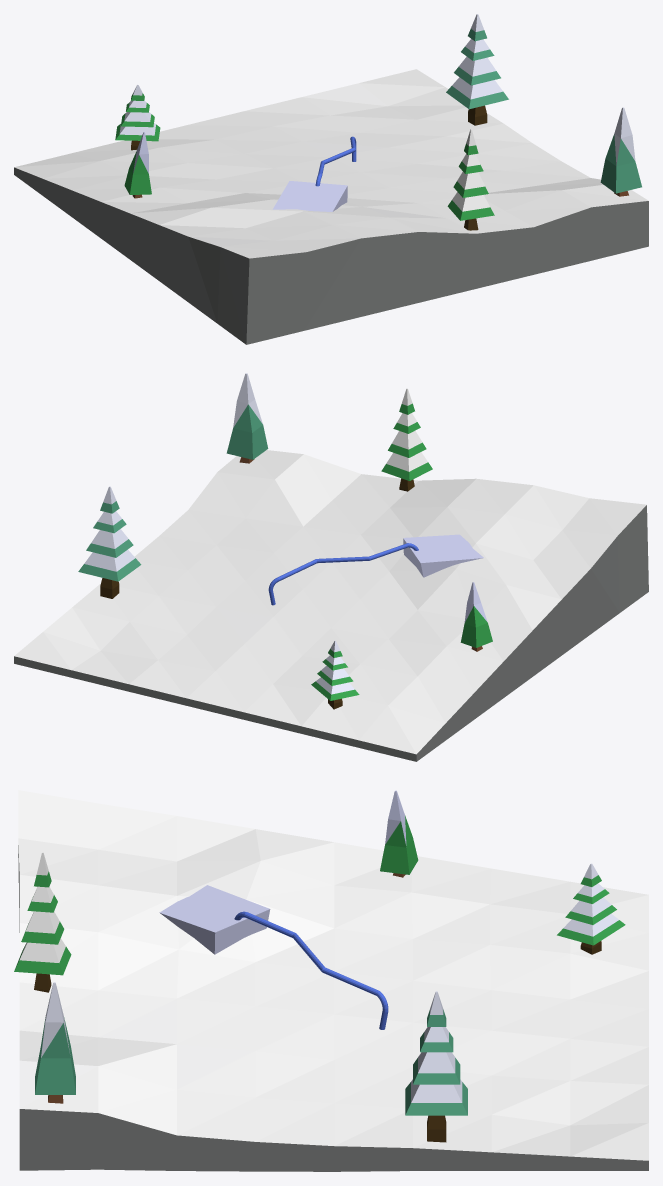
Rendered from zRail.glb.
The picture shows the model from 3 angles, top to bottom: view 1: azimuth 30°, elevation 25°; view 2: azimuth 150°, elevation 25°; view 3: azimuth 270°, elevation 25°; orthographic projection. The views are drawn at different scales.
Visible parts, largest first — view 1: snow, Cube.001, Cube.003, Cube, first, Cube.002, Cube.004; view 2: snow, Cube.001, Cube.003, first, Cube, Cube.002, Cube.004, rail; view 3: snow, Cube.001, first, Cube.003, Cube, Cube.002, Cube.004, rail.
Boxes of the visible parts, left/top/right/bottom form: snow: left=14, top=69, right=648, bottom=344; Cube.001: left=446, top=14, right=508, bottom=125; Cube.003: left=447, top=129, right=494, bottom=230; Cube: left=600, top=107, right=641, bottom=196; first: left=272, top=181, right=347, bottom=211; Cube.002: left=115, top=84, right=160, bottom=150; Cube.004: left=124, top=132, right=151, bottom=198; snow: left=14, top=450, right=648, bottom=761; Cube.001: left=78, top=486, right=141, bottom=598; Cube.003: left=381, top=388, right=432, bottom=491; first: left=403, top=534, right=483, bottom=577; Cube: left=226, top=373, right=268, bottom=463; Cube.002: left=311, top=640, right=359, bottom=709; Cube.004: left=460, top=582, right=492, bottom=651; rail: left=268, top=543, right=418, bottom=605; snow: left=18, top=790, right=648, bottom=1171; Cube.001: left=405, top=991, right=467, bottom=1142; first: left=159, top=885, right=270, bottom=954; Cube.003: left=14, top=852, right=71, bottom=992; Cube: left=35, top=982, right=75, bottom=1103; Cube.002: left=557, top=863, right=625, bottom=954; Cube.004: left=380, top=790, right=418, bottom=877; rail: left=234, top=911, right=388, bottom=1029.
Bounding box in the file's own units: 12.78 × 4.61 × 12.81.
